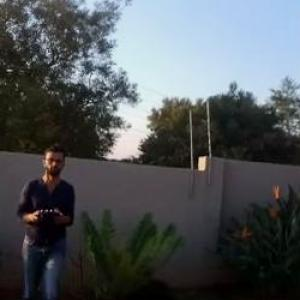follow: (14, 130, 84, 299)
